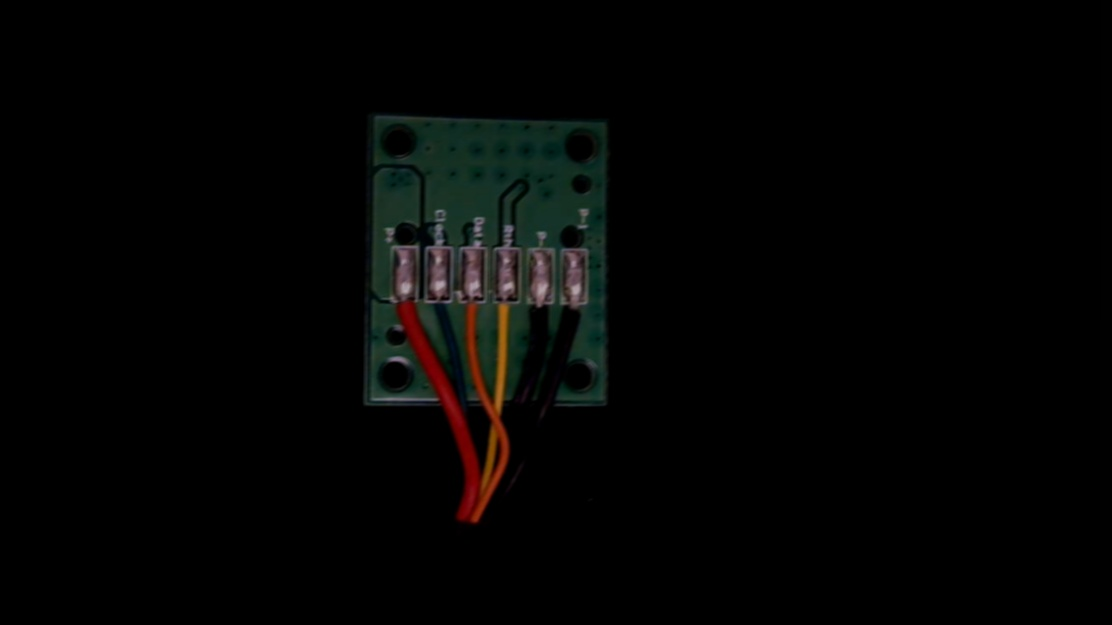Black: (527, 282, 558, 346)
Black1: (563, 285, 592, 344)
Green: (426, 283, 454, 336)
Orange: (460, 284, 489, 347)
Red: (391, 284, 421, 345)
Yellow: (490, 284, 521, 349)
